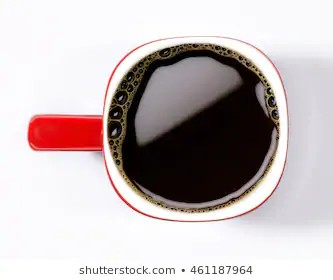nescafe-mug: (23, 19, 293, 227)
